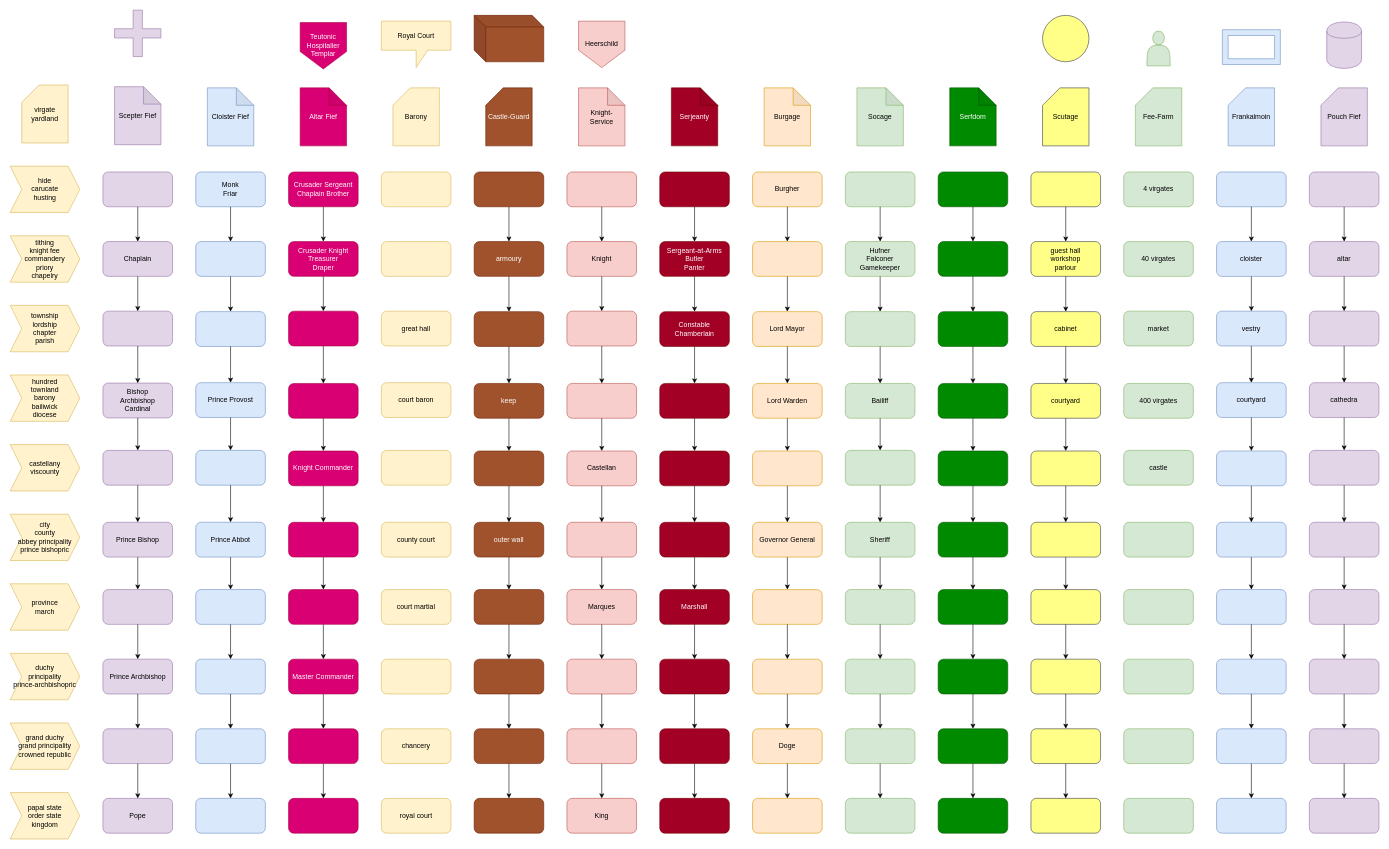
Image size: 1389x849. Some labels were removed from this diagram. The box of each missing label's shape, as (x1, y1, x2, y2) in pixels:
Baron: (566, 383, 637, 418)
catholic: (114, 10, 161, 57)
Cottar: (845, 171, 915, 207)
Count: (566, 522, 637, 557)
curtain wall: (474, 450, 544, 486)
Duke Prince: (566, 659, 637, 694)
Florin: (1042, 15, 1089, 62)
font: (1309, 311, 1379, 346)
Grand Duke Archduke: (566, 728, 637, 764)
Grandmaster: (288, 728, 358, 764)
House Commander: (288, 311, 358, 346)
Knave Valet: (659, 171, 729, 207)
Land Commander: (288, 522, 358, 557)
Lieutenant Governor: (752, 450, 822, 486)
Lord: (566, 311, 637, 346)
Moravian Manor: (474, 15, 544, 62)
Patrician Innkeeper: (752, 241, 822, 276)
Priest Chancellor: (102, 311, 173, 346)
Prior: (195, 241, 265, 276)
Provost Abbot: (195, 311, 265, 346)
Reeve: (845, 311, 915, 346)
Serf: (938, 171, 1008, 207)
Squire: (566, 171, 637, 207)
Vicar: (102, 171, 173, 207)
